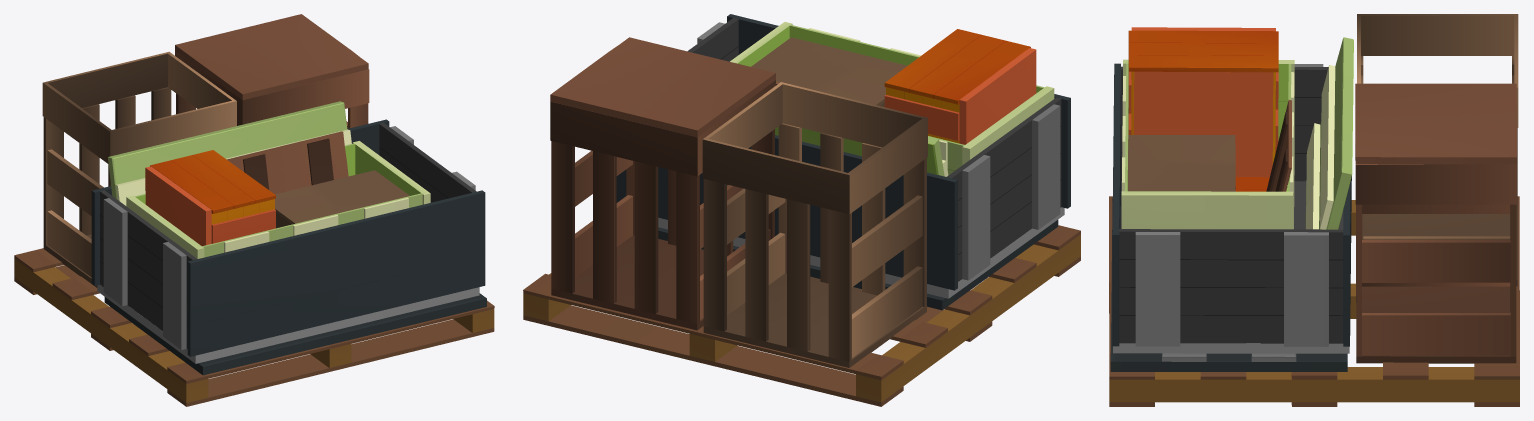
Rendered from Large Pallet of Wood Boxes.fbx.
3 renders of one model, left to right at view 1: azimuth 30°, elevation 25°; view 2: azimuth 150°, elevation 25°; view 3: azimuth 270°, elevation 25°, orthographic. The views are drawn at different scales.
Parts seen in each view (by area): view 1: Large Pallet of Colored Crates; view 2: Large Pallet of Colored Crates; view 3: Large Pallet of Colored Crates.
Part boxes in pixels (x1,y1,x2,y2): Large Pallet of Colored Crates: (14, 14, 494, 406); Large Pallet of Colored Crates: (523, 14, 1080, 406); Large Pallet of Colored Crates: (1109, 14, 1519, 406).
Bounding box in the file's own units: 337 × 531 × 550.
1 material, 1 textured.
